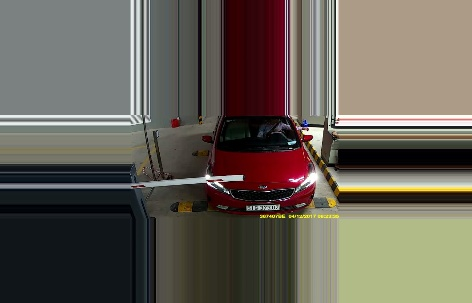plate: (246, 201, 281, 211)
